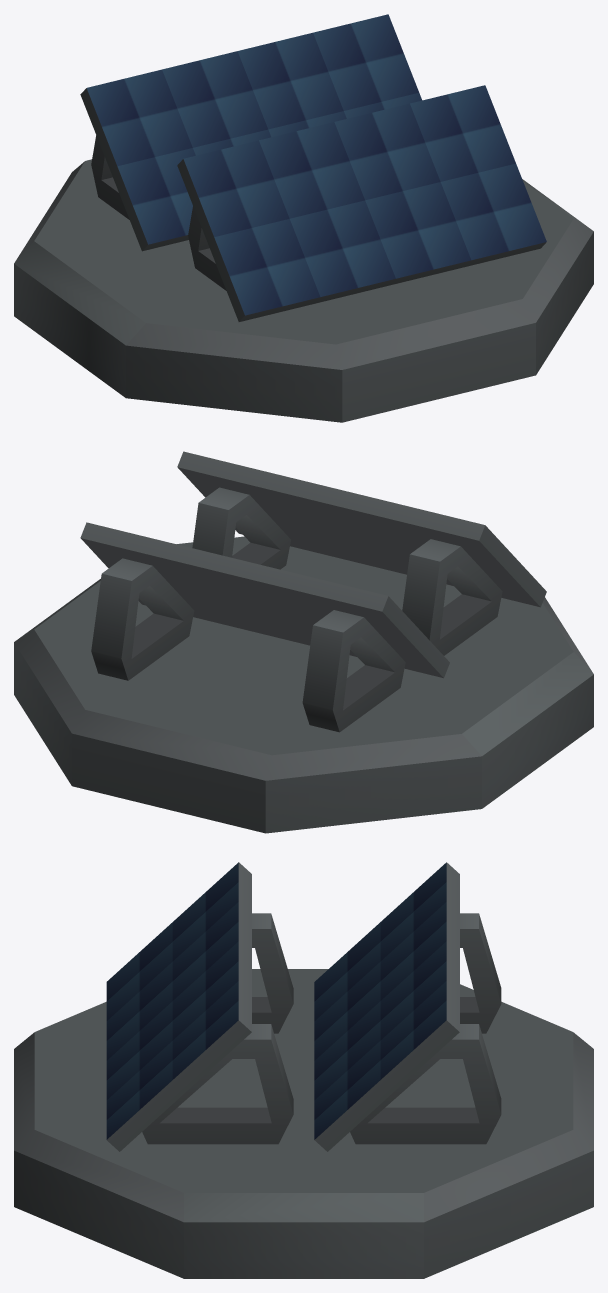
Rendered from solar-roof-DNl2xVFT.glb.
The picture shows the model from 3 angles, top to bottom: view 1: azimuth 30°, elevation 25°; view 2: azimuth 150°, elevation 25°; view 3: azimuth 270°, elevation 25°; orthographic projection. The views are drawn at different scales.
Visible parts, largest first — view 1: roofmodule_solarpanels; view 2: roofmodule_solarpanels; view 3: roofmodule_solarpanels.
Part boxes in pixels (left/top/right/bottom): roofmodule_solarpanels: left=14, top=14, right=593, bottom=422; roofmodule_solarpanels: left=14, top=451, right=593, bottom=833; roofmodule_solarpanels: left=14, top=862, right=593, bottom=1278.
Bounding box in the file's own units: 1.4 × 0.571 × 1.4.
1 material, 1 textured.
